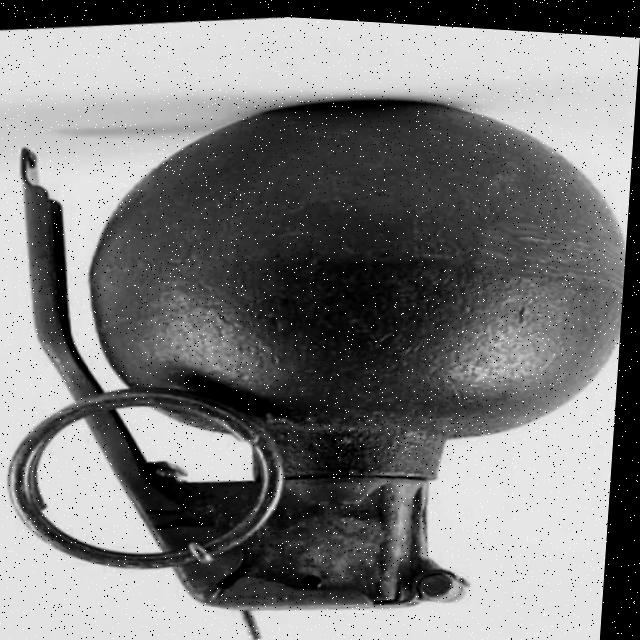grenade: (0, 40, 638, 640)
